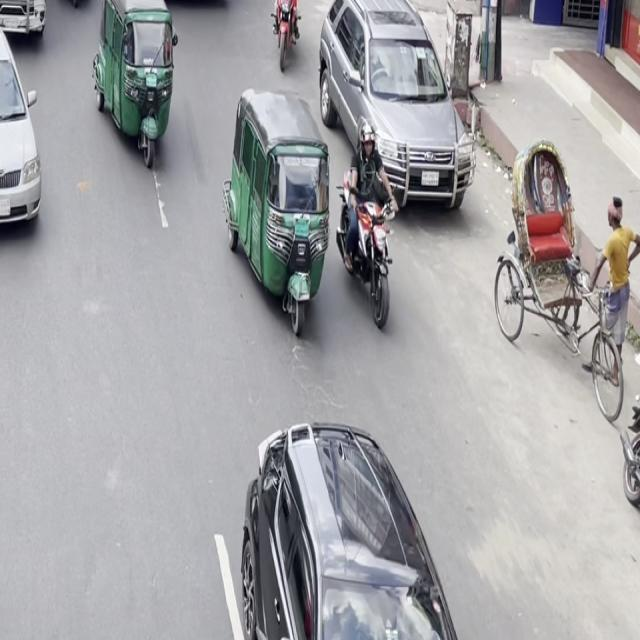car: (230, 389, 462, 640), (312, 0, 479, 219), (0, 2, 51, 242), (0, 0, 51, 47)
motorbike: (334, 144, 399, 336), (266, 0, 310, 76)
rickshaw: (218, 80, 338, 342), (88, 0, 188, 175), (44, 0, 108, 11)
